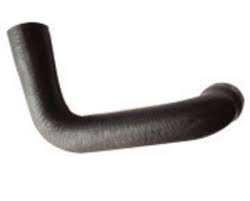radiator_hose: (9, 24, 243, 153)
